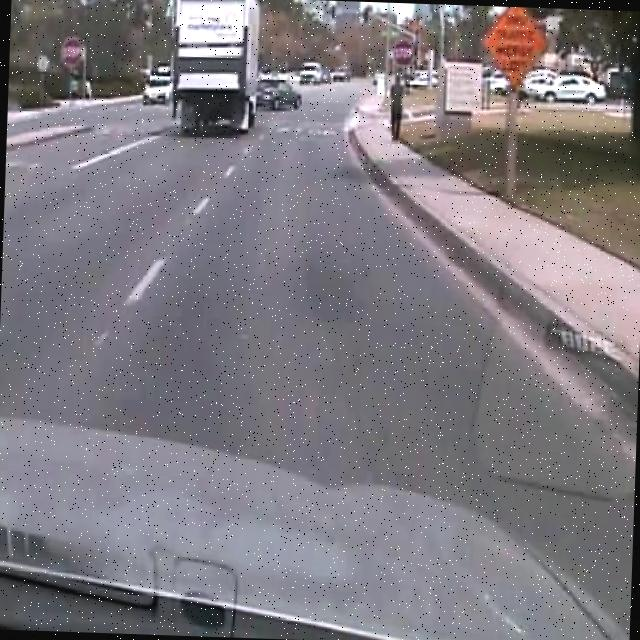Stop: (392, 38, 413, 66)
